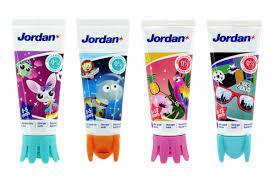toothpaste: (204, 17, 263, 161), (138, 19, 195, 164), (75, 13, 127, 163), (12, 17, 65, 162)
